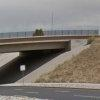Bridge: (3, 17, 95, 60)
